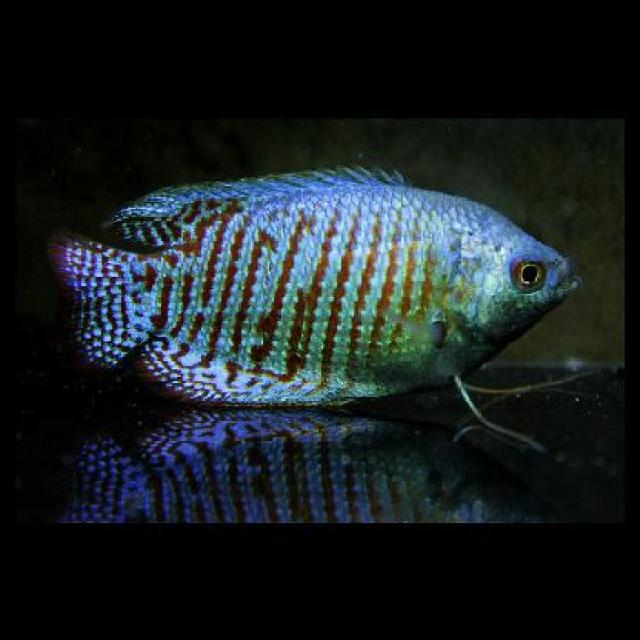Gourami: (52, 158, 582, 405)
